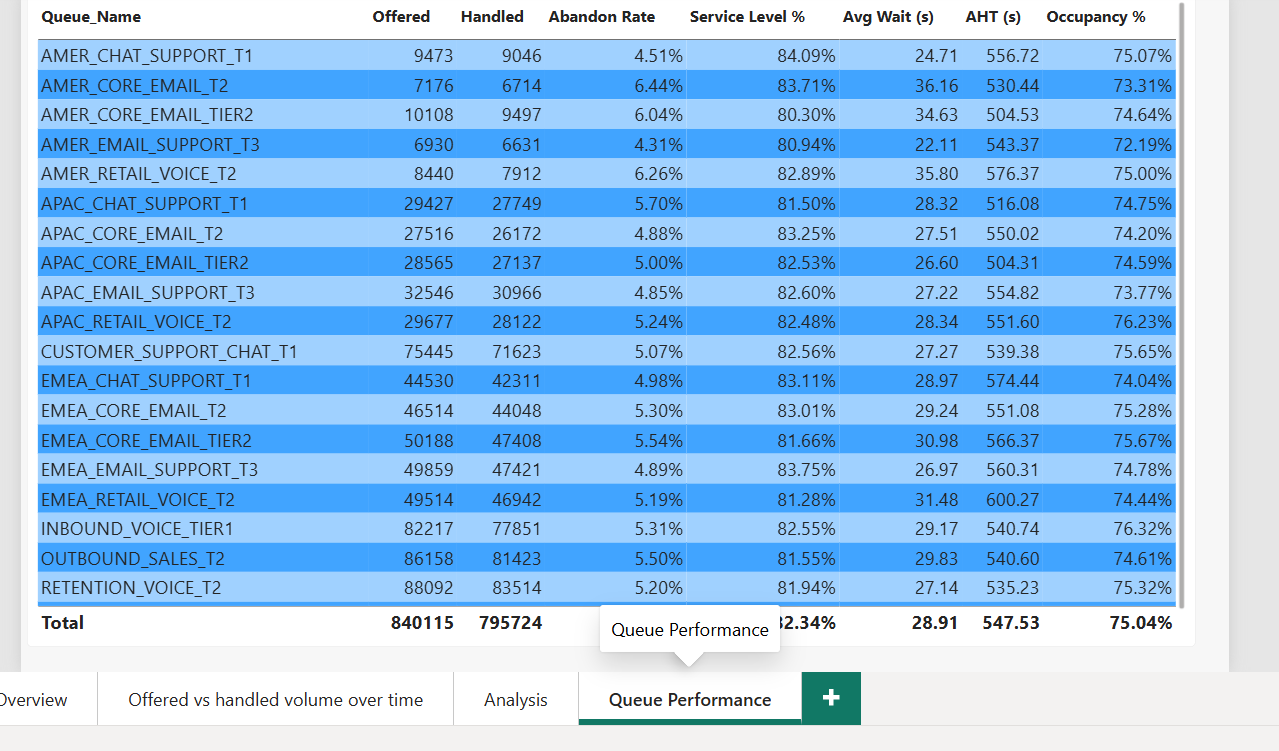

The dashboard page shown, as its layout file describes it:
{"tool":"powerbi","page":{"name":"Queue Performance","canvas":[1920,1080],"ordinal":3},"visuals":[{"type":"tableEx","fields":{"Values":["Data.Queue_Name","Data.Offered","Data.Handled","Data.Abandon Rate","Data.Service Level %","Data.Avg Wait (s)","Data.AHT (s)","Data.Occupancy %"]},"box":[9.5,0,1858.6,1040.3],"z":0}]}

Visuals, with their boxes on the page's 1920x1080 design canvas (x1, y1, x2, y2). These are canvas units, not pixel positions in the 1279x751 screenshot, which may show the page scaled, cropped or inside an application window:
tableEx - Data.Queue_Name x Data.Offered: x1=10 y1=0 x2=1868 y2=1040
